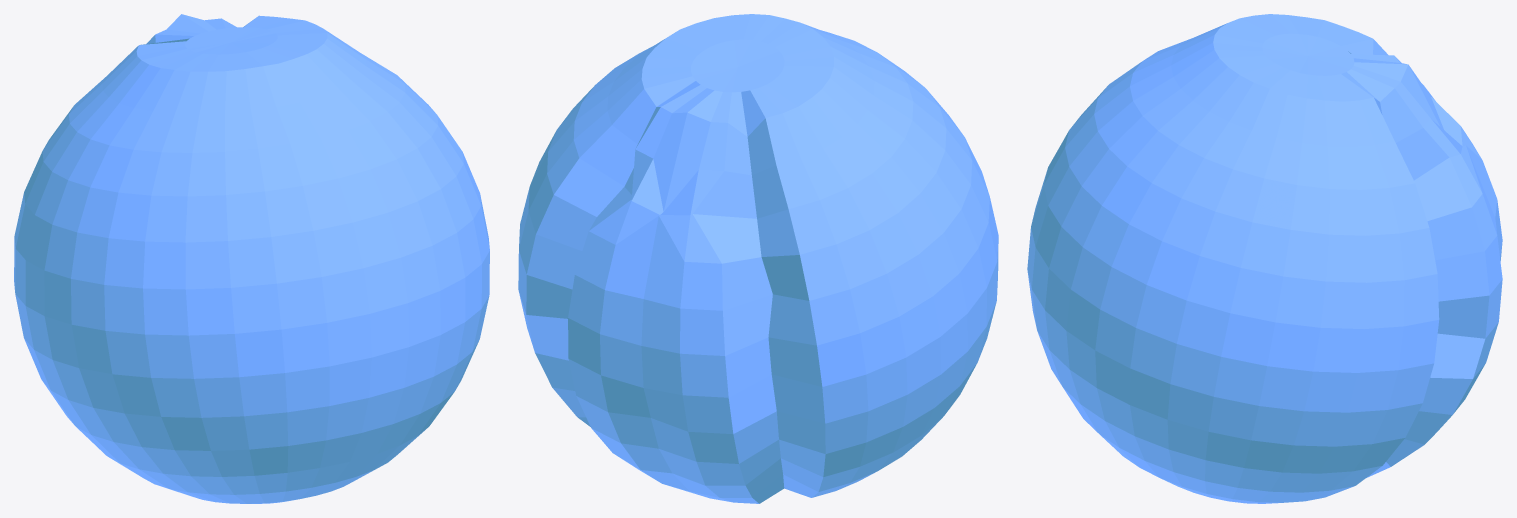
The model's file is Ball.fbx.
3 renders of one model, left to right at view 1: azimuth 30°, elevation 25°; view 2: azimuth 150°, elevation 25°; view 3: azimuth 270°, elevation 25°, orthographic.
Visible parts, largest first — view 1: Sphere; view 2: Sphere; view 3: Sphere.
Part boxes in pixels (left/top/right/bottom): Sphere: left=14, top=14, right=489, bottom=503; Sphere: left=518, top=14, right=998, bottom=503; Sphere: left=1027, top=14, right=1502, bottom=503.
Bounding box in the file's own units: 200 × 202 × 198.
